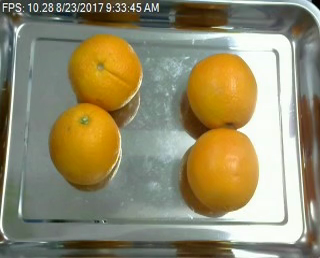Orange: (185, 129, 258, 211), (48, 103, 120, 184), (68, 35, 143, 111), (185, 51, 258, 129)
